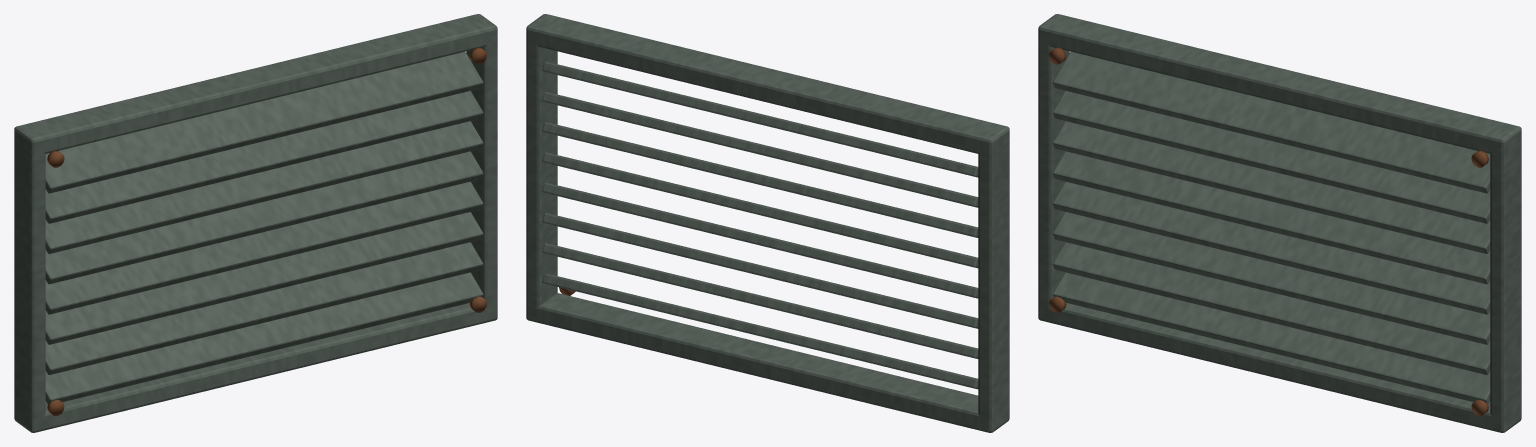
Rendered from VentGrille.fbx.
3 views of the same model, side by side, from view 1: azimuth 30°, elevation 25°; view 2: azimuth 150°, elevation 25°; view 3: azimuth 330°, elevation 25° (orthographic).
Visible parts, largest first — view 1: VentGrille; view 2: VentGrille; view 3: VentGrille.
Boxes of the visible parts, <box> form: VentGrille: <box>14,14,497,432</box>; VentGrille: <box>526,14,1009,432</box>; VentGrille: <box>1038,14,1521,432</box>.
Bounding box in the file's own units: 176 × 106 × 14.7.
Materials: 1 (1 with a texture image).
